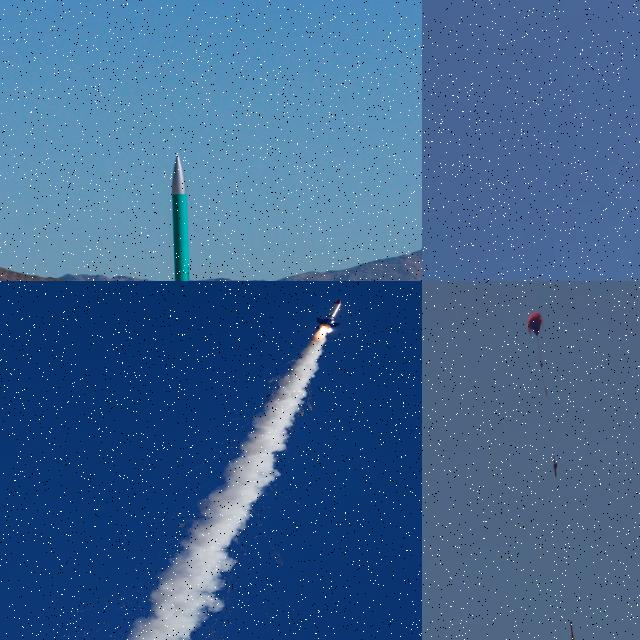Rocket: (160, 152, 209, 281), (315, 299, 343, 331), (570, 619, 574, 640)
